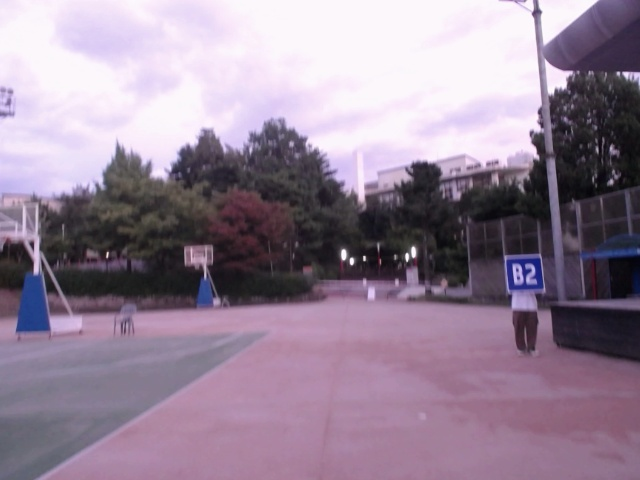delivery_b2: (503, 253, 545, 292)
